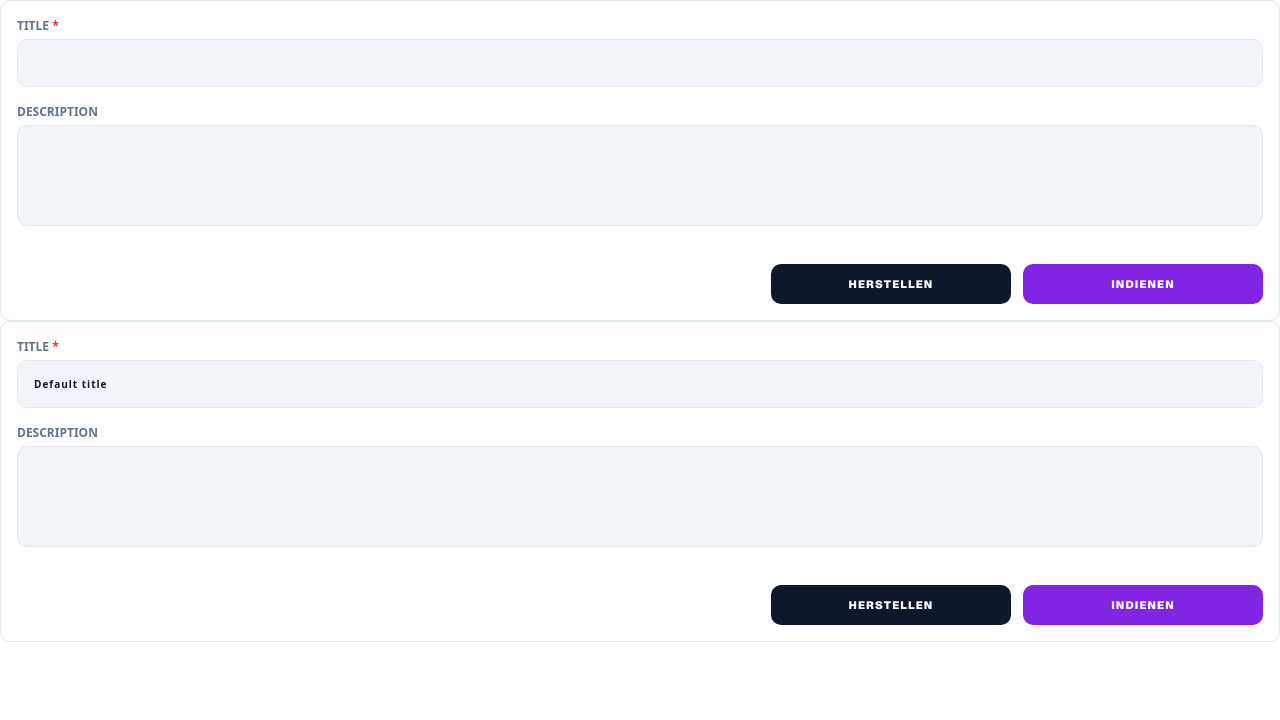
Test: FormBaseForm › resets form to initialValues when reset is clicked
Replace the text in the 2nd field with "Changed" at (640, 384), box [17,360,1263,408]
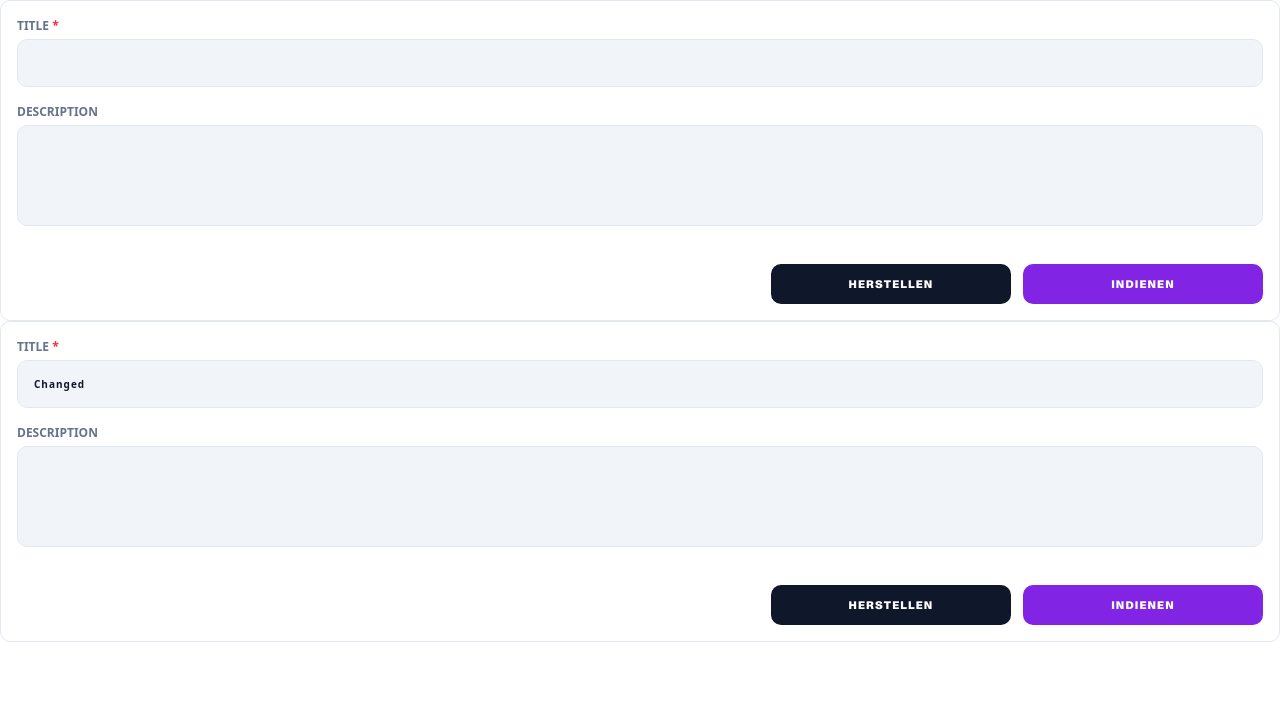
Click the 2nd button "Herstellen" at (891, 605), box [771,585,1011,625]
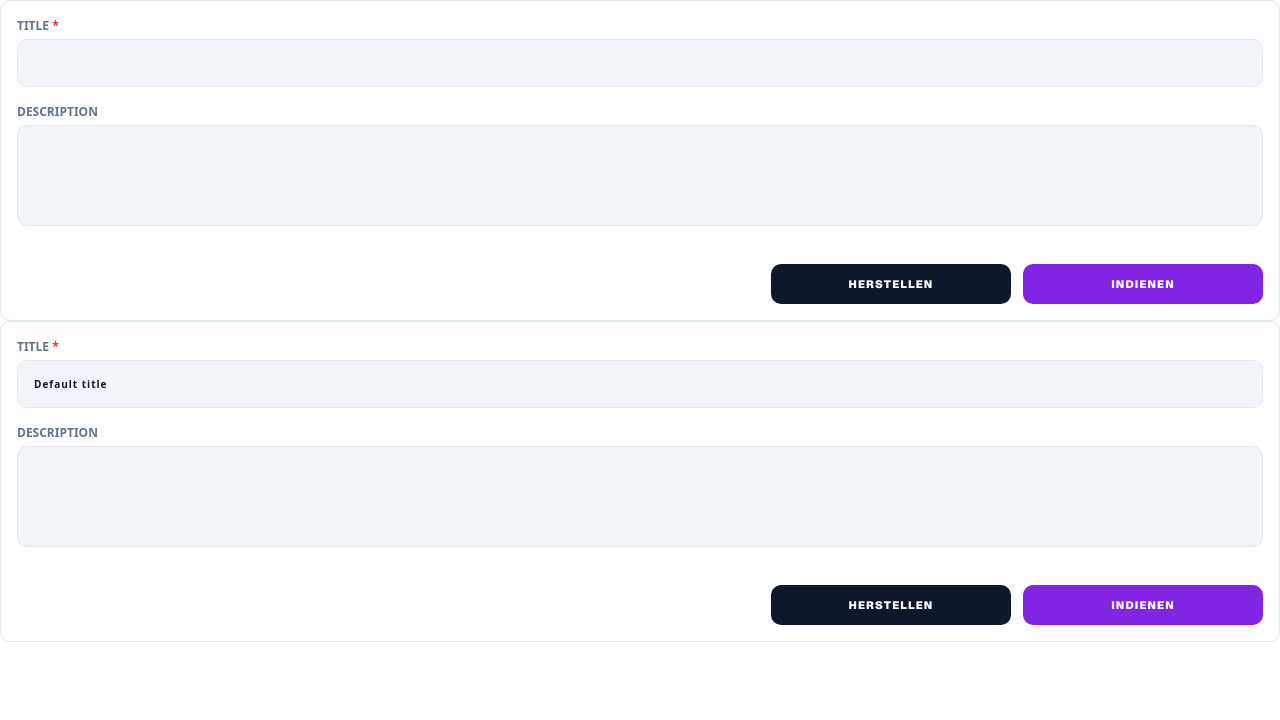
expect the 2nd field holds "Default title": met, box [17,360,1263,408]
